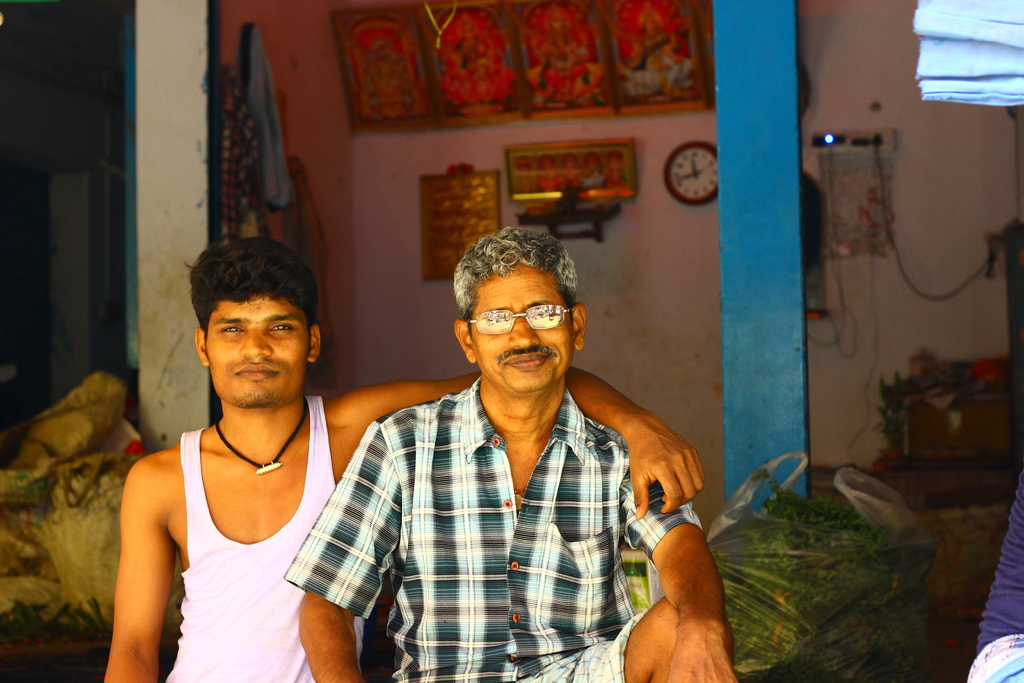face: (449, 262, 592, 403), (192, 280, 327, 423)
